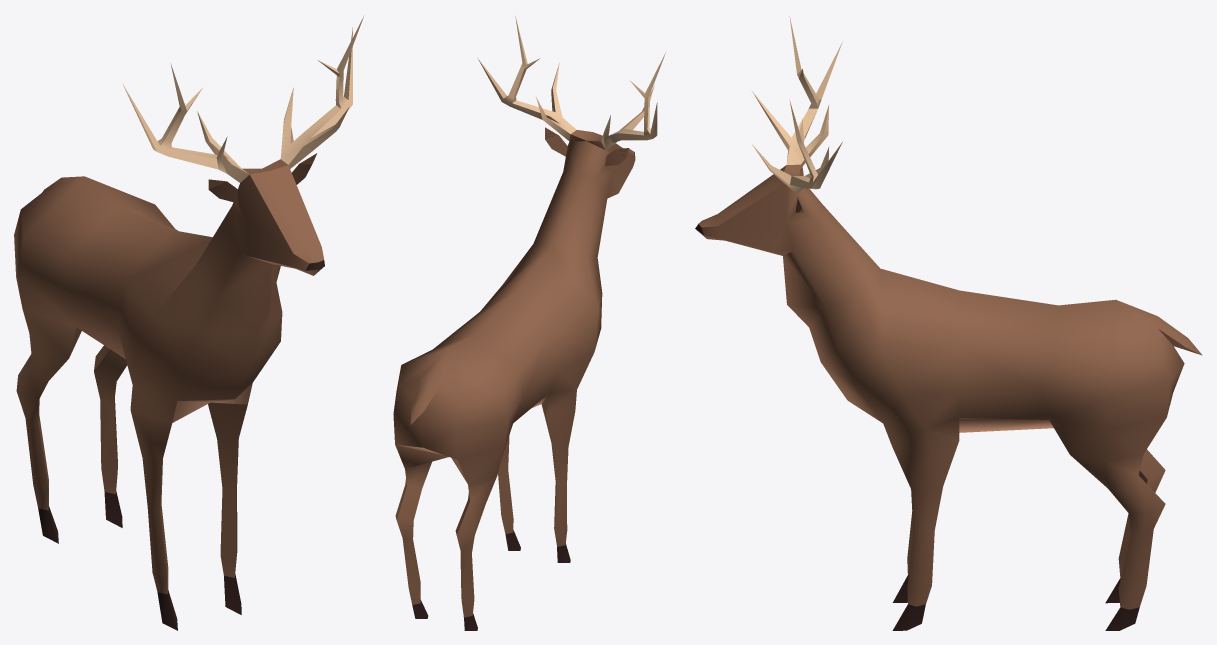
File: Deer-ver2.fbx
3 renders of one model, left to right at view 1: azimuth 30°, elevation 25°; view 2: azimuth 150°, elevation 25°; view 3: azimuth 270°, elevation 25°, orthographic. The views are drawn at different scales.
Visible parts, largest first — view 1: Deer-ver2; view 2: Deer-ver2; view 3: Deer-ver2.
Boxes of the visible parts, box(x1,y1,x2,y2) form: Deer-ver2: box(14, 15, 364, 630); Deer-ver2: box(393, 16, 665, 630); Deer-ver2: box(695, 16, 1202, 630).
Size of the model in its own units: 0.8518 by 2.21 by 1.81.
